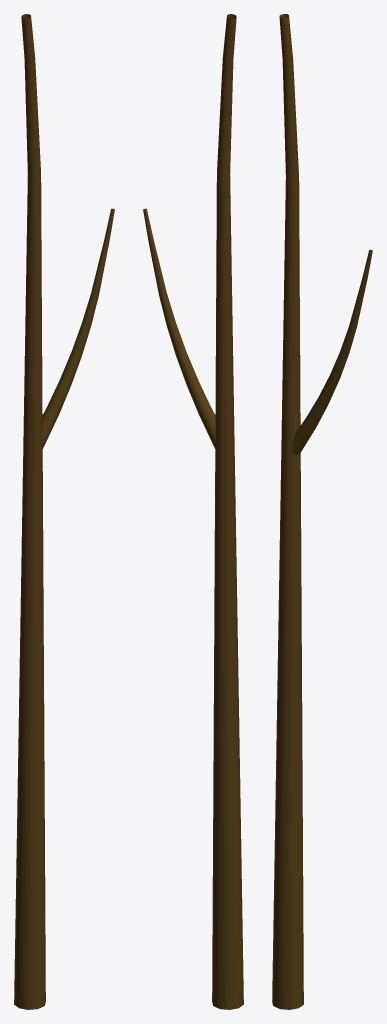
The model's file is branch.fbx.
3 views of the same model, side by side, from view 1: azimuth 30°, elevation 25°; view 2: azimuth 150°, elevation 25°; view 3: azimuth 330°, elevation 25° (orthographic).
Visible parts, largest first — view 1: branch; view 2: branch; view 3: branch.
Boxes of the visible parts, bbox=[...] form: branch: bbox=[14, 14, 114, 1009]; branch: bbox=[143, 14, 243, 1009]; branch: bbox=[272, 14, 372, 1009].
Bounding box in the file's own units: 0.2124 × 2.04 × 0.061.
